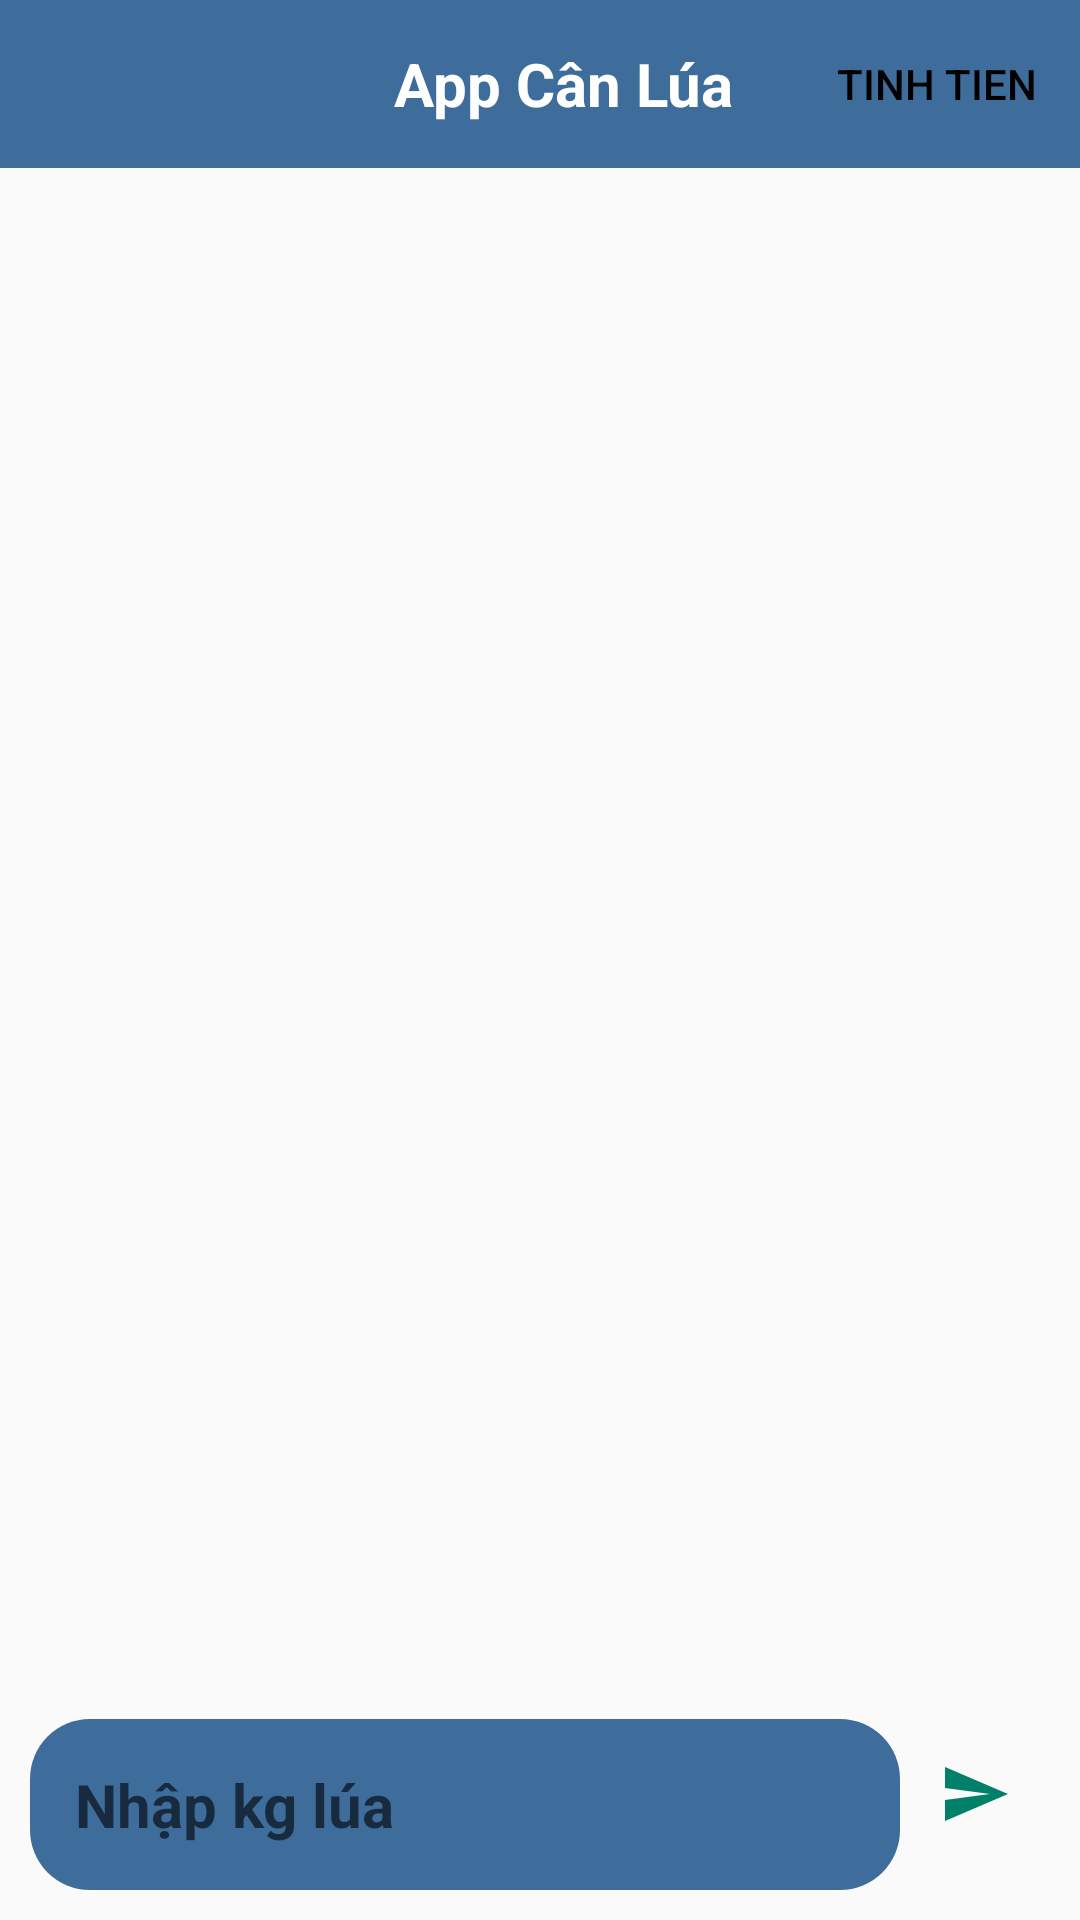

Where to tap for icons on this 1080 x 1920 app screen, as (x,y):
send: (976,1794)
